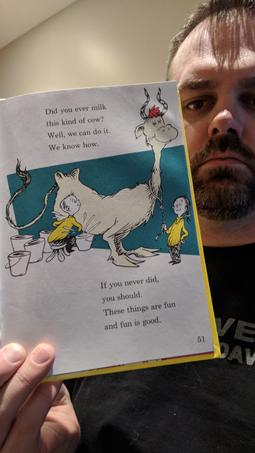text block: (92, 273, 181, 335), (34, 96, 116, 151)
